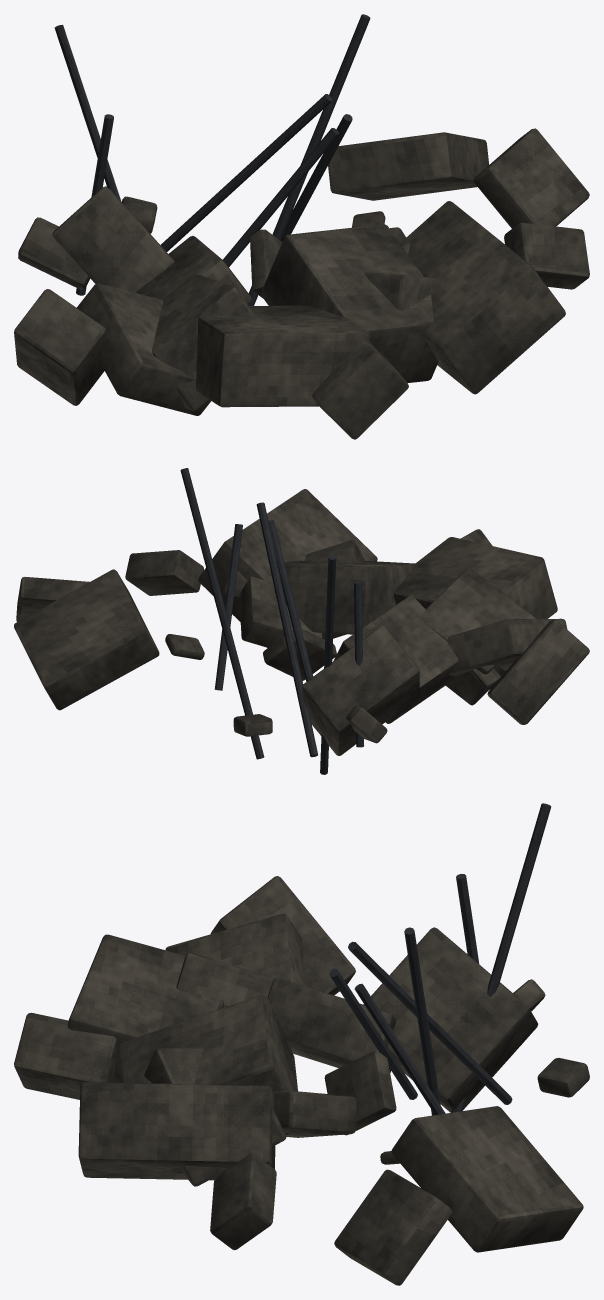
Rendered from mun_rubble.glb.
The picture shows the model from 3 angles, top to bottom: view 1: azimuth 30°, elevation 25°; view 2: azimuth 150°, elevation 25°; view 3: azimuth 270°, elevation 25°; orthographic projection. The views are drawn at different scales.
Parts seen in each view (by area): view 1: mun_rubble; view 2: mun_rubble; view 3: mun_rubble.
Part boxes in pixels (left/top/right/bottom): mun_rubble: left=14, top=14, right=589, bottom=439; mun_rubble: left=14, top=468, right=589, bottom=774; mun_rubble: left=14, top=803, right=589, bottom=1285.
Bounding box in the file's own units: 2.08 × 0.9824 × 1.57.
2 materials, 2 textured.
